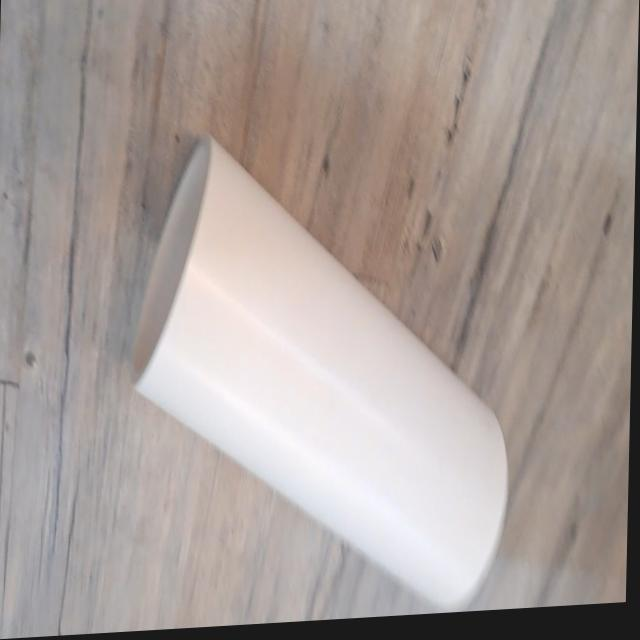CORAL: (89, 93, 543, 634)
